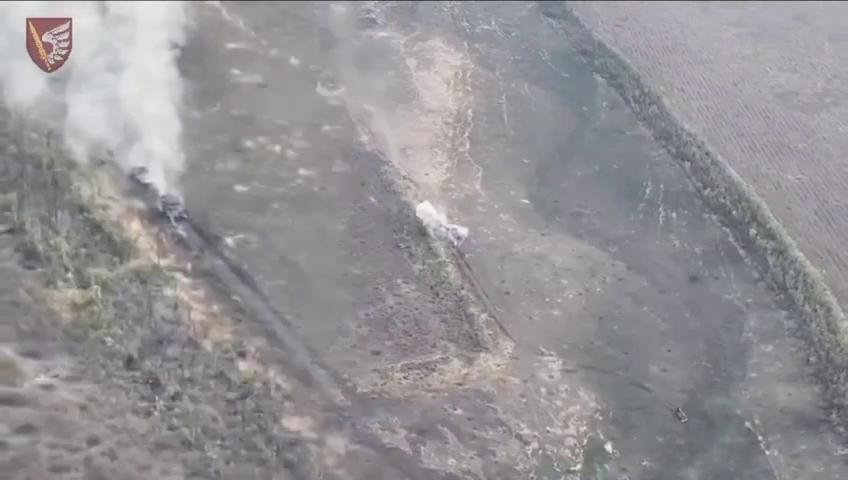tank: (152, 189, 193, 231), (124, 160, 158, 190), (672, 404, 691, 425)
